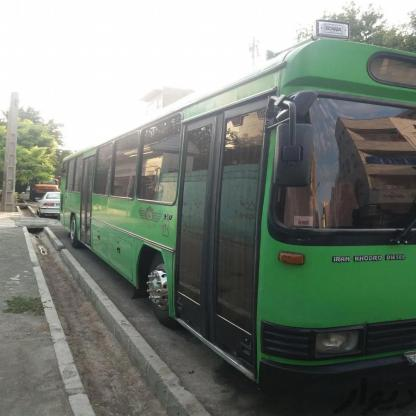Bus: (60, 27, 416, 400)
Car: (38, 193, 66, 225)
